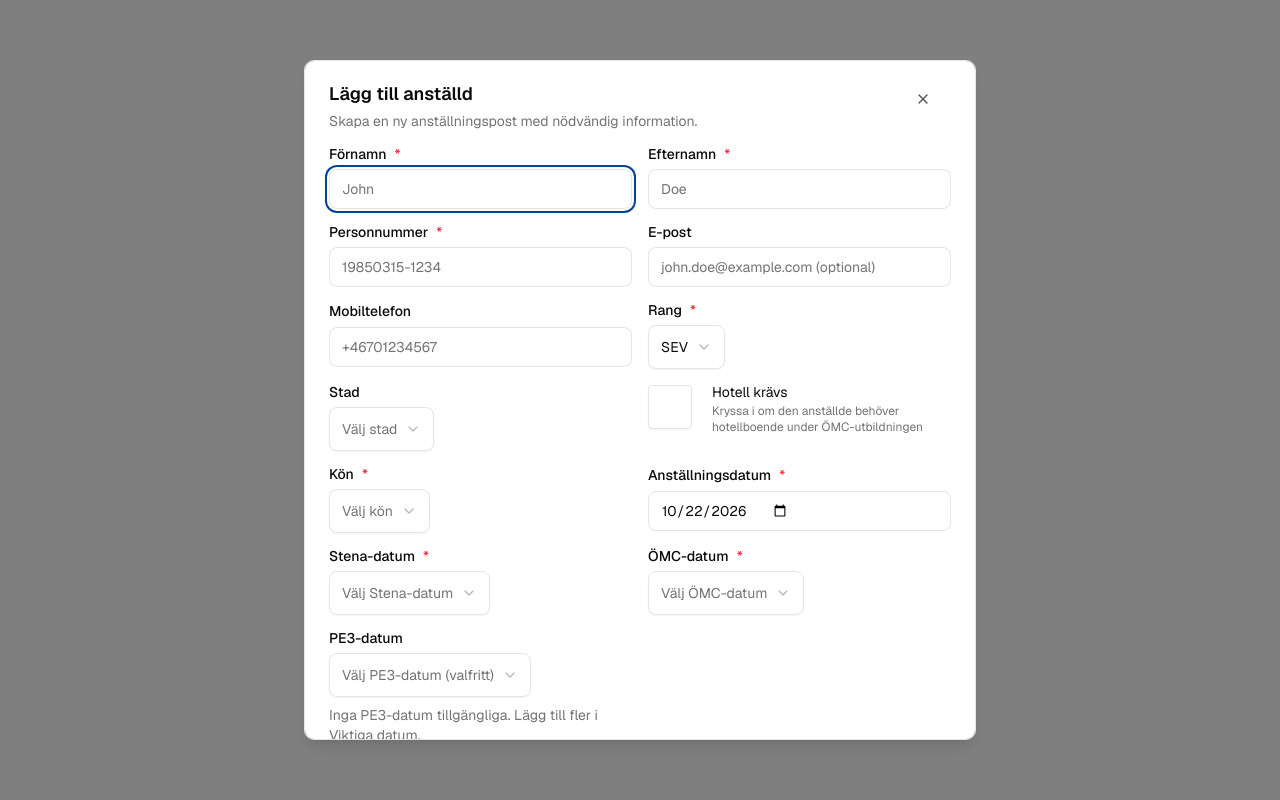
AddEmployeeModal › Date Dropdown Remaining Spots Display › should display remaining spots in parentheses for Stena dates in dropdown
The width and height of the screenshot is (1280, 800).
// Open Stena date dropdown
Click the dropdown labelled "Välj Stena-datum".
click(410, 593)  # box x1=329 y1=571 x2=490 y2=615
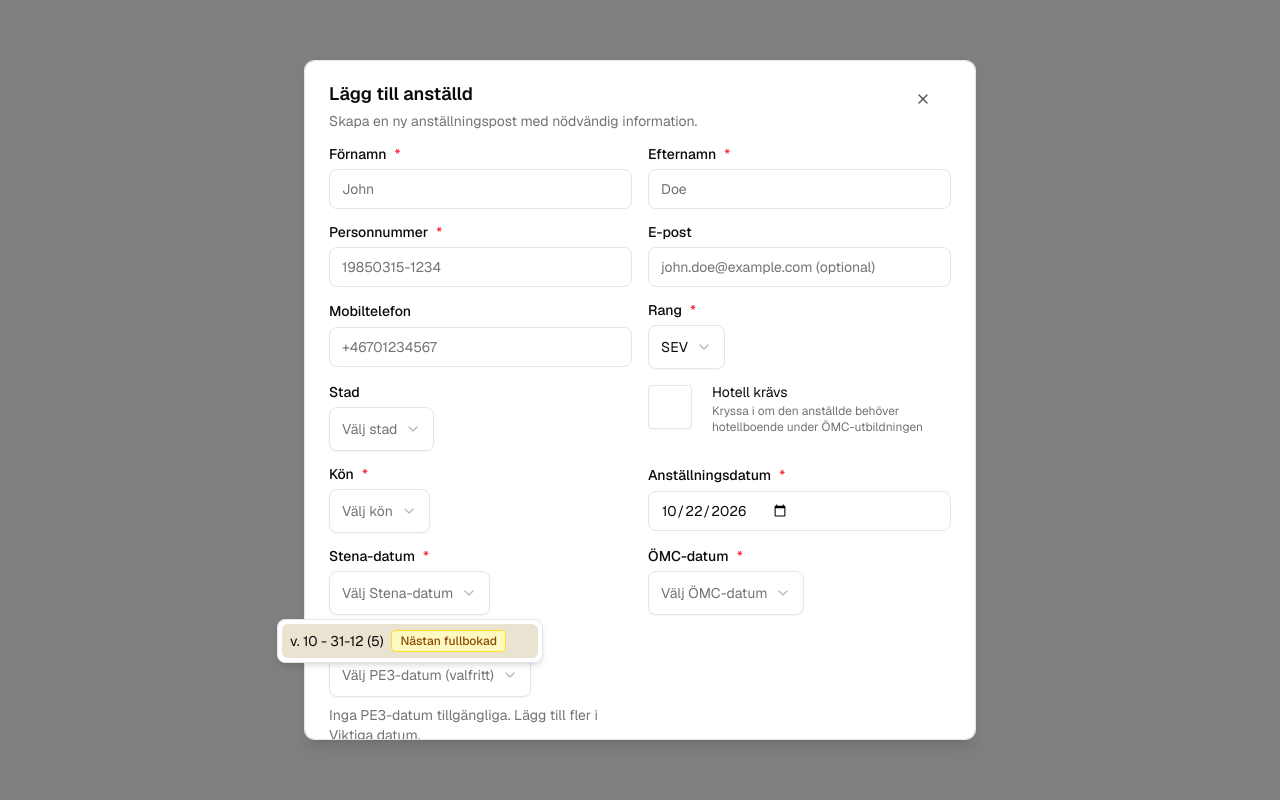
Expected: the list is shown, x1=277 y1=619 x2=543 y2=663
Expected: the option shows "(5)", x1=282 y1=624 x2=538 y2=658
